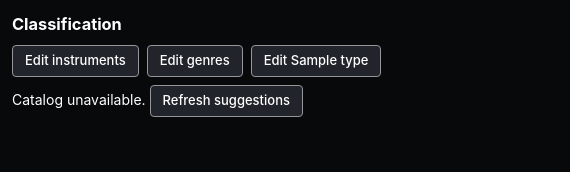
load errors offer refresh and late responses cannot replace another inspected Sample
The image size is (570, 172).
Check: the message shows "Catalog unavailable.", box [12,91,146,108]
Click the button "Refresh suggestions" at (226, 101), box [150,85,303,117]
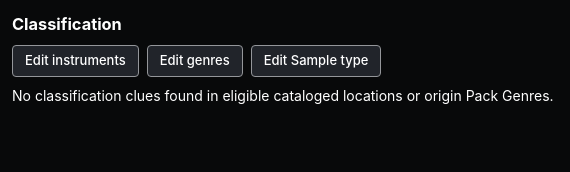
Check: the text "No classification clues found" is shown, box [12,87,554,104]
